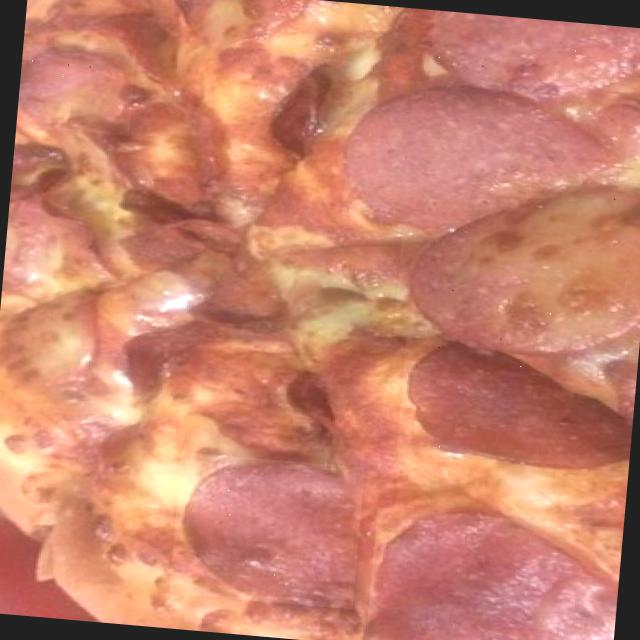pepperoni: (393, 160, 640, 356), (340, 74, 622, 244), (365, 505, 622, 640), (396, 332, 638, 470), (168, 450, 364, 608), (428, 9, 640, 106), (16, 42, 136, 135)
